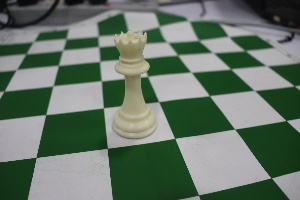white_queen: (102, 18, 162, 150)
